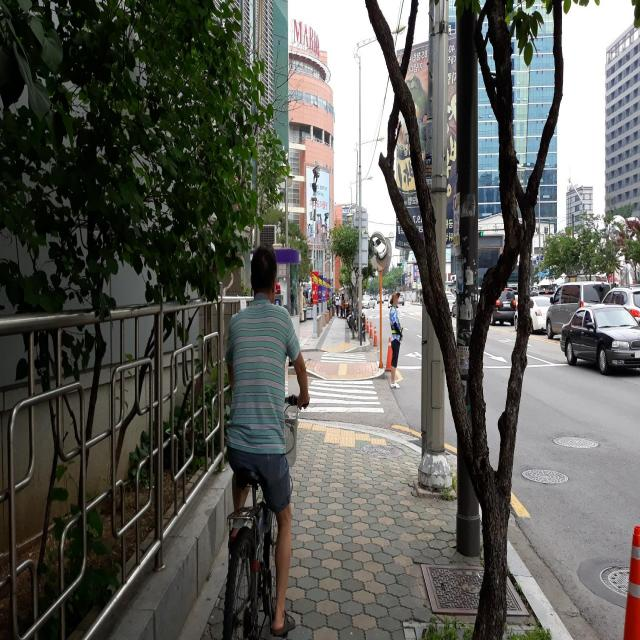횡단보도: (300, 379, 385, 414)
